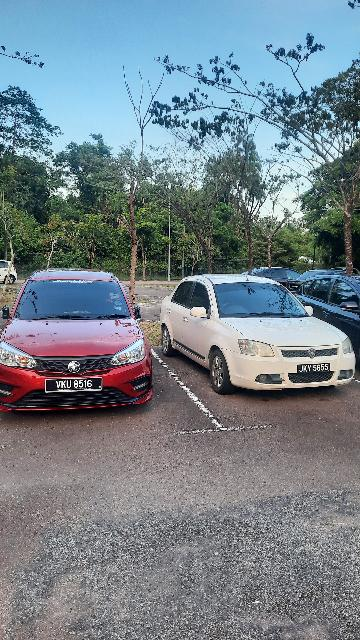License_Plate: (43, 377, 106, 395), (297, 362, 336, 375)
car: (160, 275, 360, 397), (2, 268, 157, 416)
